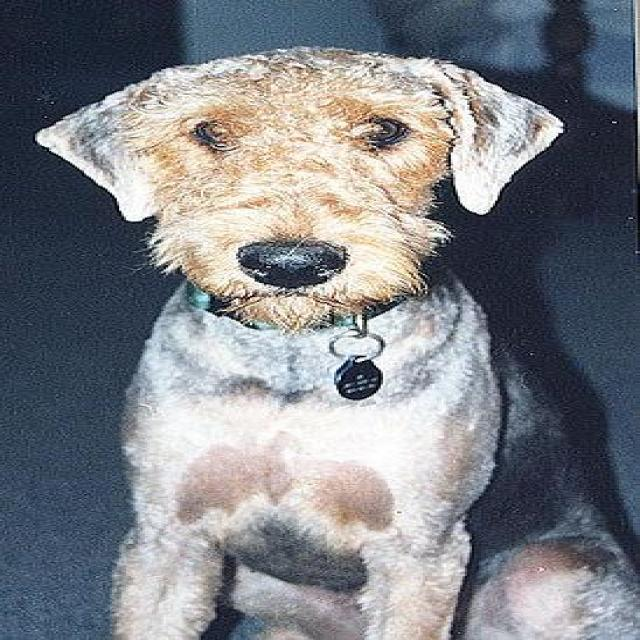airedale: (35, 46, 635, 638)
